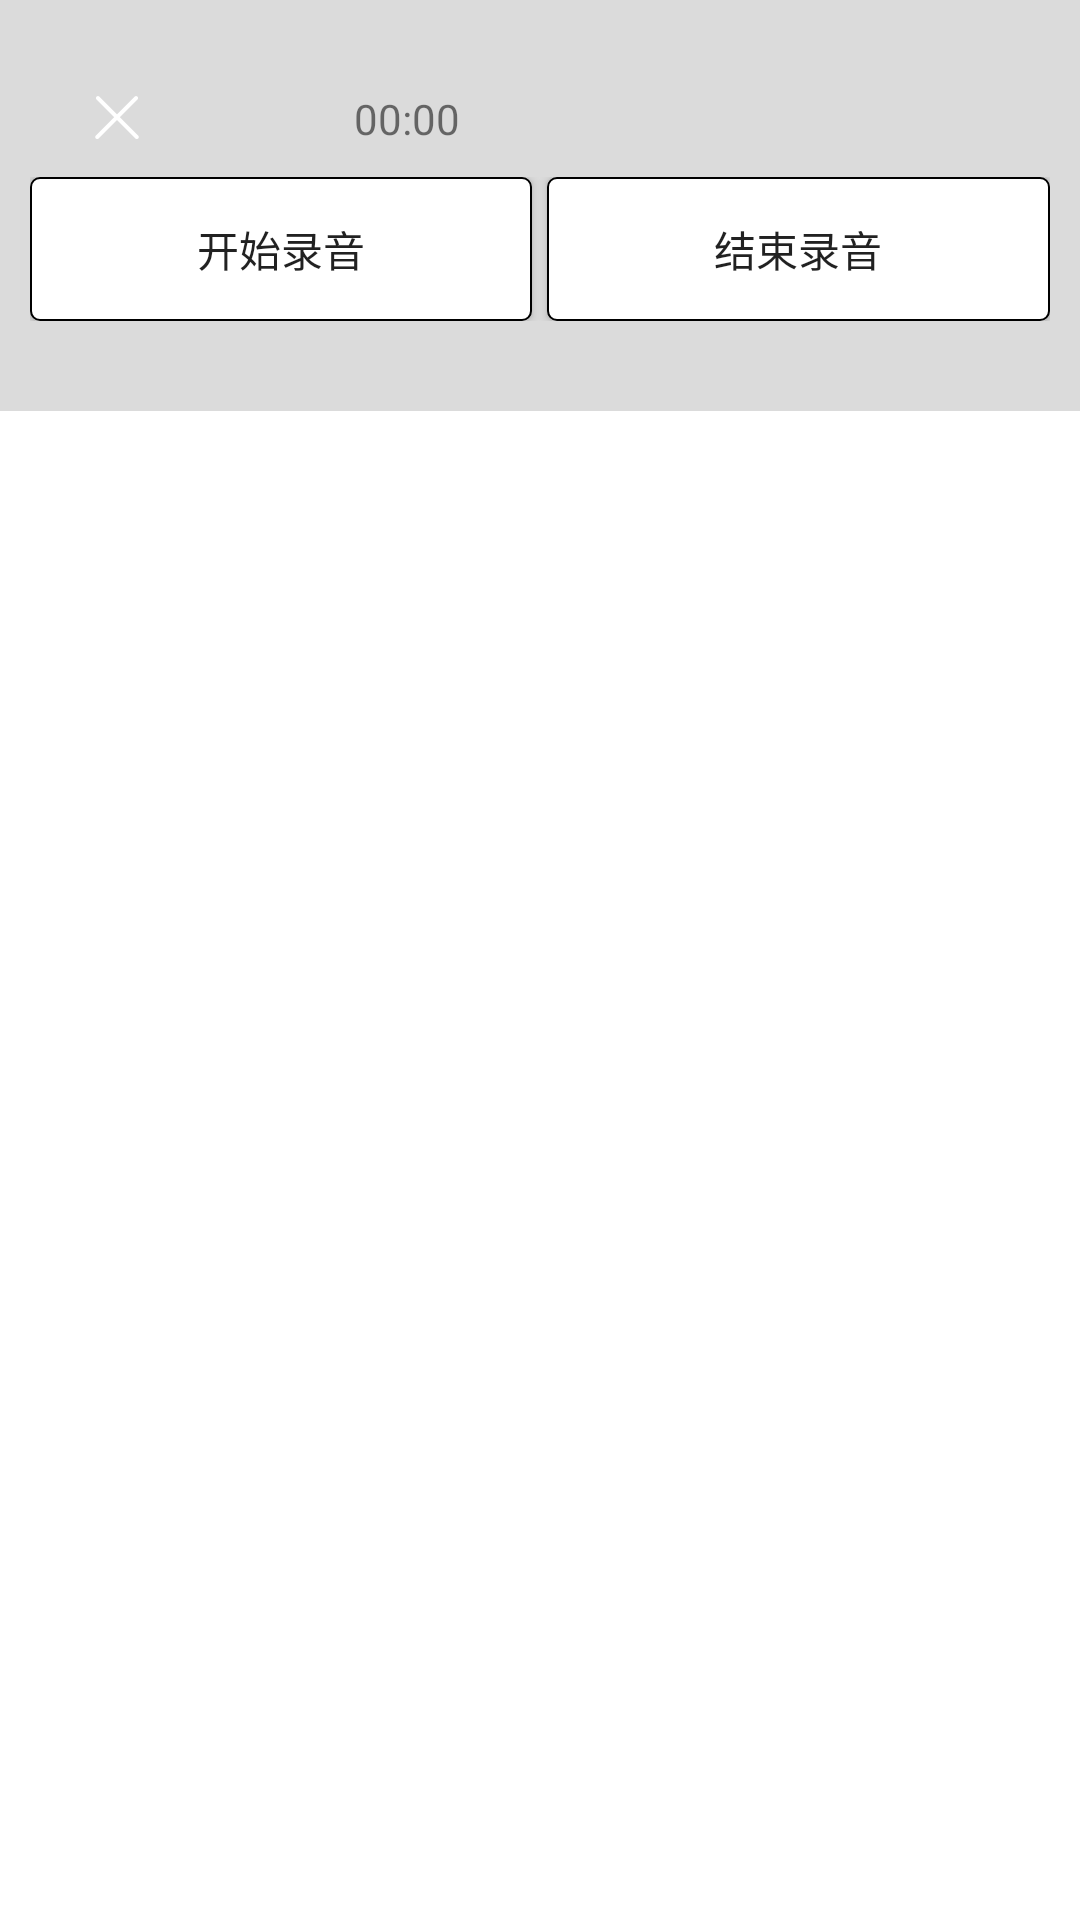

Icons on this 1080px×1920px Android screen, each with the point to tap as [x,y]:
lay goback: [117,117]
